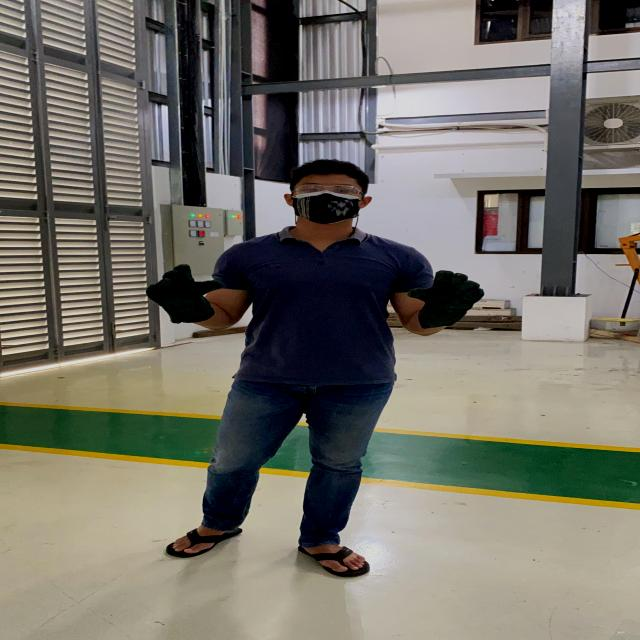face_mask: (289, 183, 367, 219)
glasses: (287, 181, 369, 200)
hand_glove: (137, 261, 233, 324), (407, 266, 490, 328)
head_nohelmet: (296, 156, 367, 183)
person: (128, 162, 491, 576)
